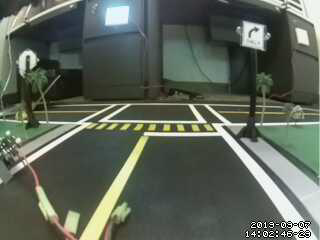Right_only_sign: (238, 20, 268, 56)
